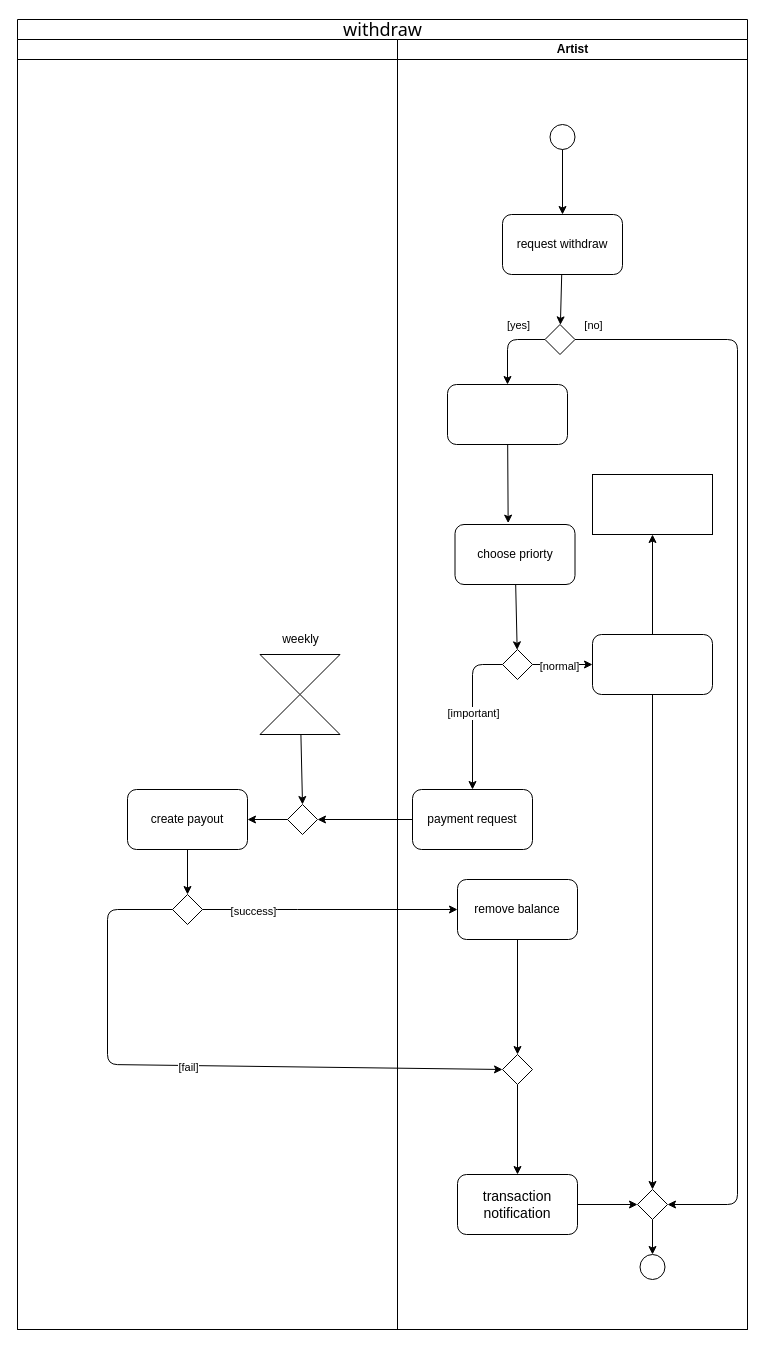
This 765x1347 diagram has some shape labels left out. Each missing label, with the box of its shape:
Payment Services: (16, 38, 398, 1330)
schedule payment: (592, 634, 712, 694)
select payment method: (446, 384, 568, 444)
«datastore» payments: (592, 474, 712, 534)
